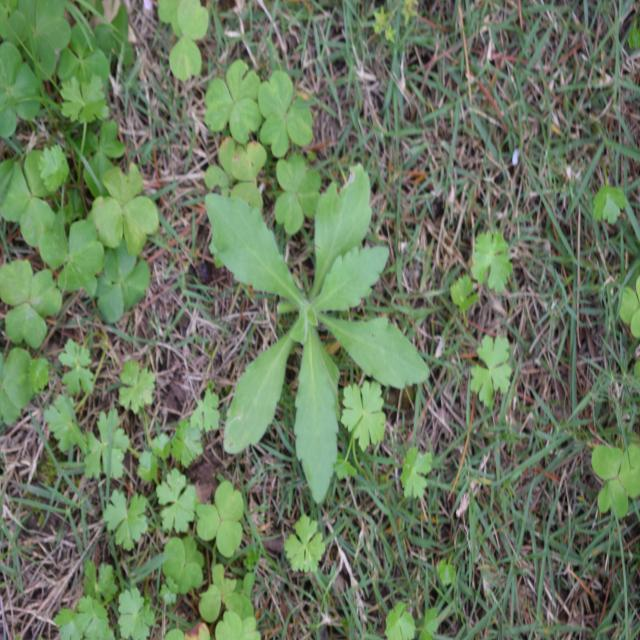horseweed: (189, 180, 428, 468)
